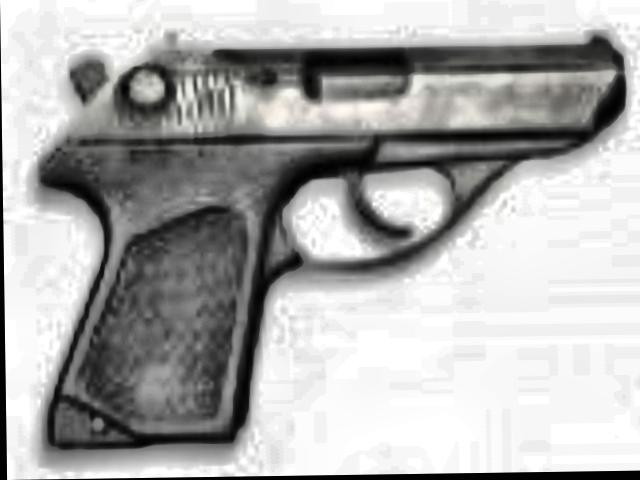pistol: (24, 25, 629, 448)
